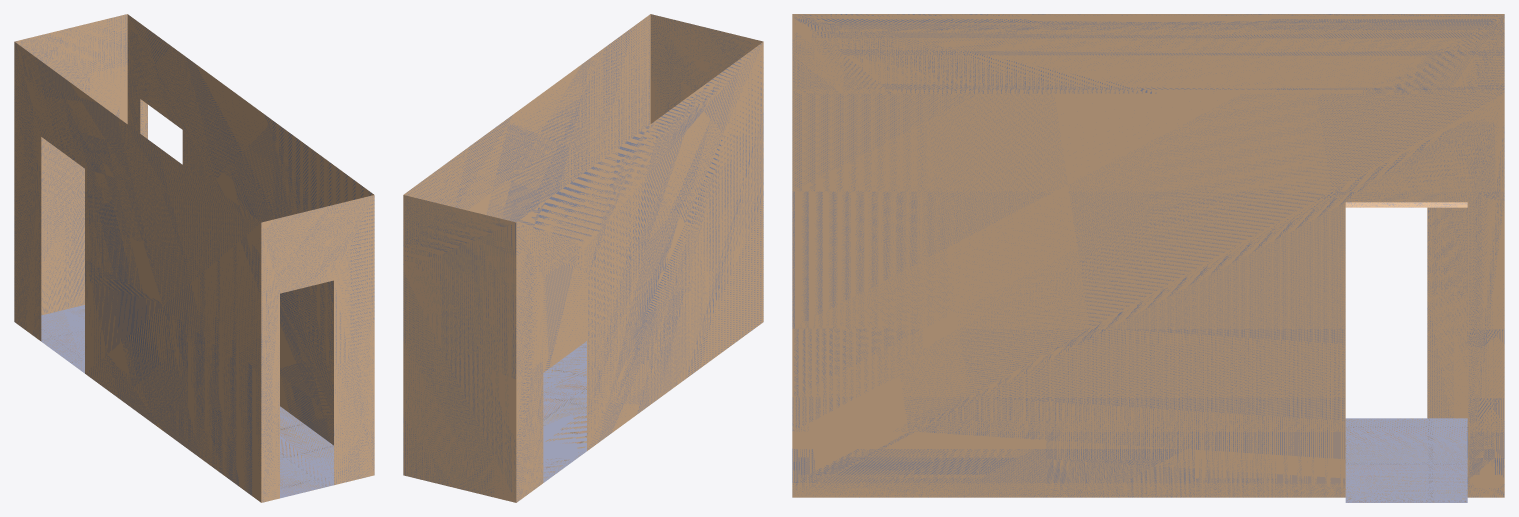
The model's file is COM012.obj.
The picture shows the model from 3 angles, left to right: view 1: azimuth 30°, elevation 25°; view 2: azimuth 150°, elevation 25°; view 3: azimuth 270°, elevation 25°; orthographic projection. The views are drawn at different scales.
Parts seen in each view (by area): view 1: Mesh1 COM012 Model; view 2: Mesh1 COM012 Model; view 3: Mesh1 COM012 Model.
Boxes of the visible parts, x1,y1,x2,y2 form: Mesh1 COM012 Model: (14,14,374,502); Mesh1 COM012 Model: (403,14,763,502); Mesh1 COM012 Model: (792,14,1504,502).
Size of the model in its own units: 1.62 by 3.6 by 5.75.
3 materials, 1 textured.
